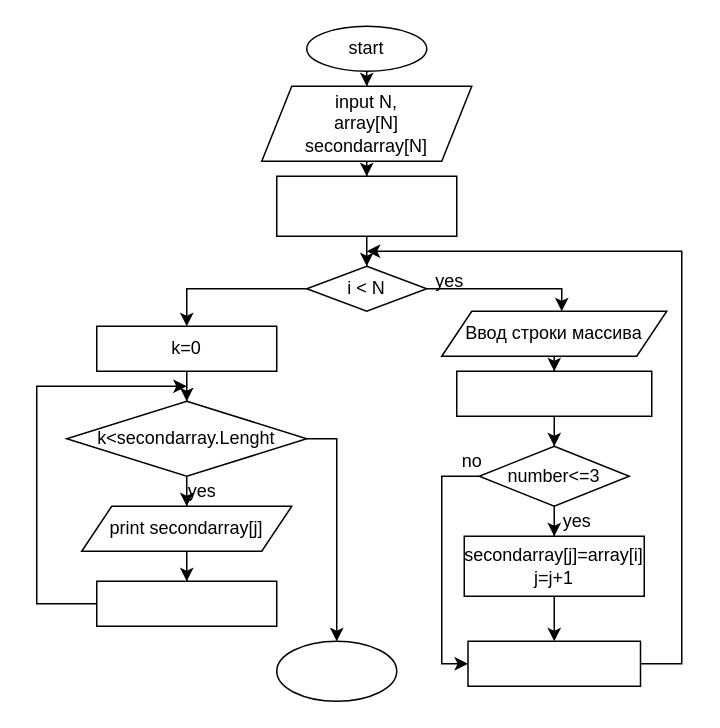
Some shapes in this 720 by 728 pixel diagram are drawn without their labels. The shapes that lost their labels are listed below. From the top down, each one's centre as x and y in pixels, then its label:
(366,205): number=0 i=0 j=0
(553,393): number=array[i].Lenght
(186,603): k=k+1
(336,670): end
(553,663): i=i+1
